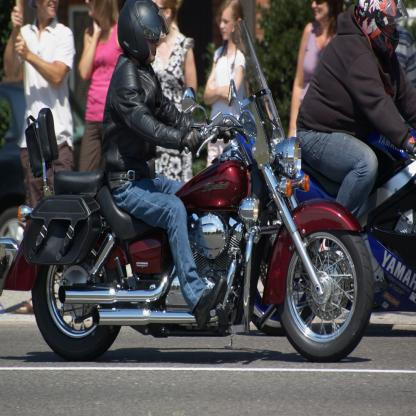Helmet: (118, 0, 168, 73), (354, 0, 412, 61)
